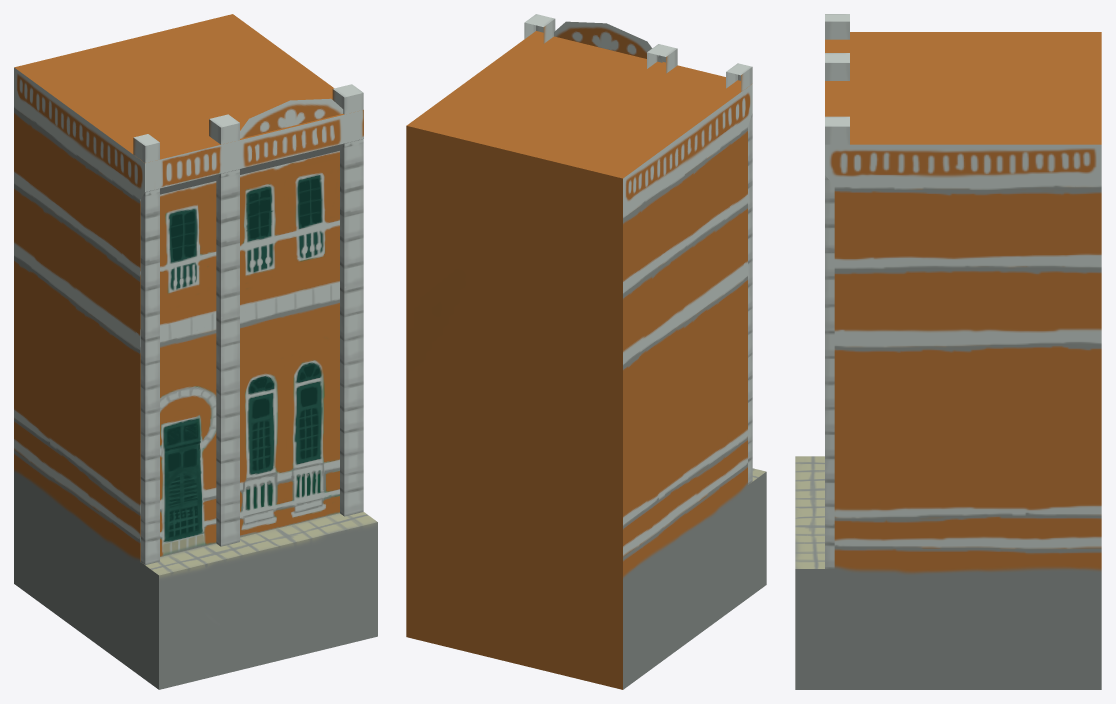
Rendered from Predio_Antigo_2.glb.
The picture shows the model from 3 angles, left to right: view 1: azimuth 30°, elevation 25°; view 2: azimuth 150°, elevation 25°; view 3: azimuth 270°, elevation 25°; orthographic projection. The views are drawn at different scales.
Visible parts, largest first — view 1: Predio_Antigo_1; view 2: Predio_Antigo_1; view 3: Predio_Antigo_1.
Part boxes in pixels (x1,y1,x2,y2): Predio_Antigo_1: (14,14,377,689); Predio_Antigo_1: (406,14,766,689); Predio_Antigo_1: (795,14,1101,689).
Size of the model in its own units: 2 by 4.74 by 2.29.
Materials: 1 (1 with a texture image).
